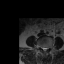CCS_normal: (44, 46, 45, 52)
LFS_normal: (47, 45, 49, 50)
LLS_normal: (45, 46, 47, 51)
RFS_normal: (40, 44, 42, 49)
RLS_normal: (42, 46, 44, 51)
